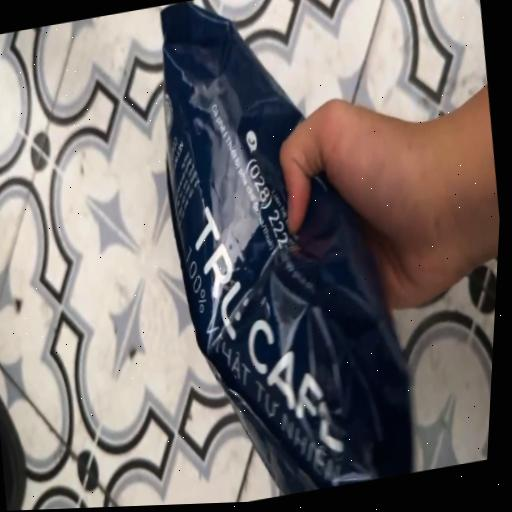cafe_hat: (161, 1, 412, 495)
